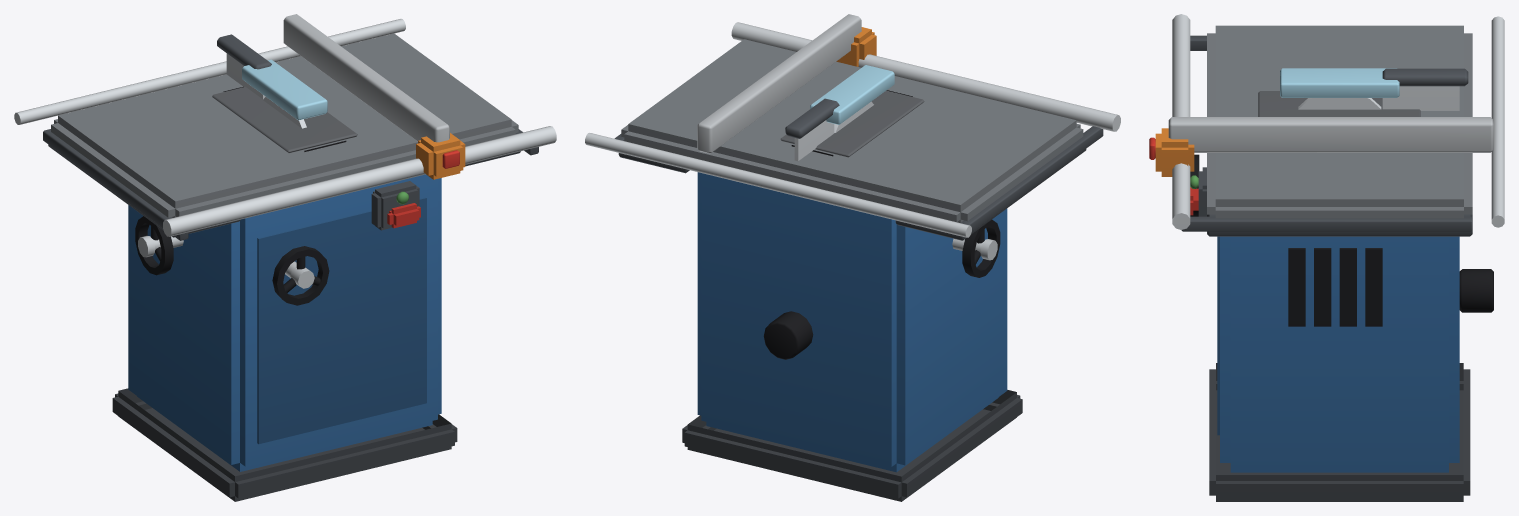
Rendered from SM_TableSaw_01.glb.
3 renders of one model, left to right at view 1: azimuth 30°, elevation 25°; view 2: azimuth 150°, elevation 25°; view 3: azimuth 270°, elevation 25°, orthographic. The views are drawn at different scales.
Visible parts, largest first — view 1: SM_TableSaw_01; view 2: SM_TableSaw_01; view 3: SM_TableSaw_01.
Boxes of the visible parts, x1,y1,x2,y2 form: SM_TableSaw_01: (14,14,556,501); SM_TableSaw_01: (585,14,1120,501); SM_TableSaw_01: (1149,14,1504,501).
Bounding box in the file's own units: 1.1 × 0.965 × 0.8302.
1 material, 1 textured.
